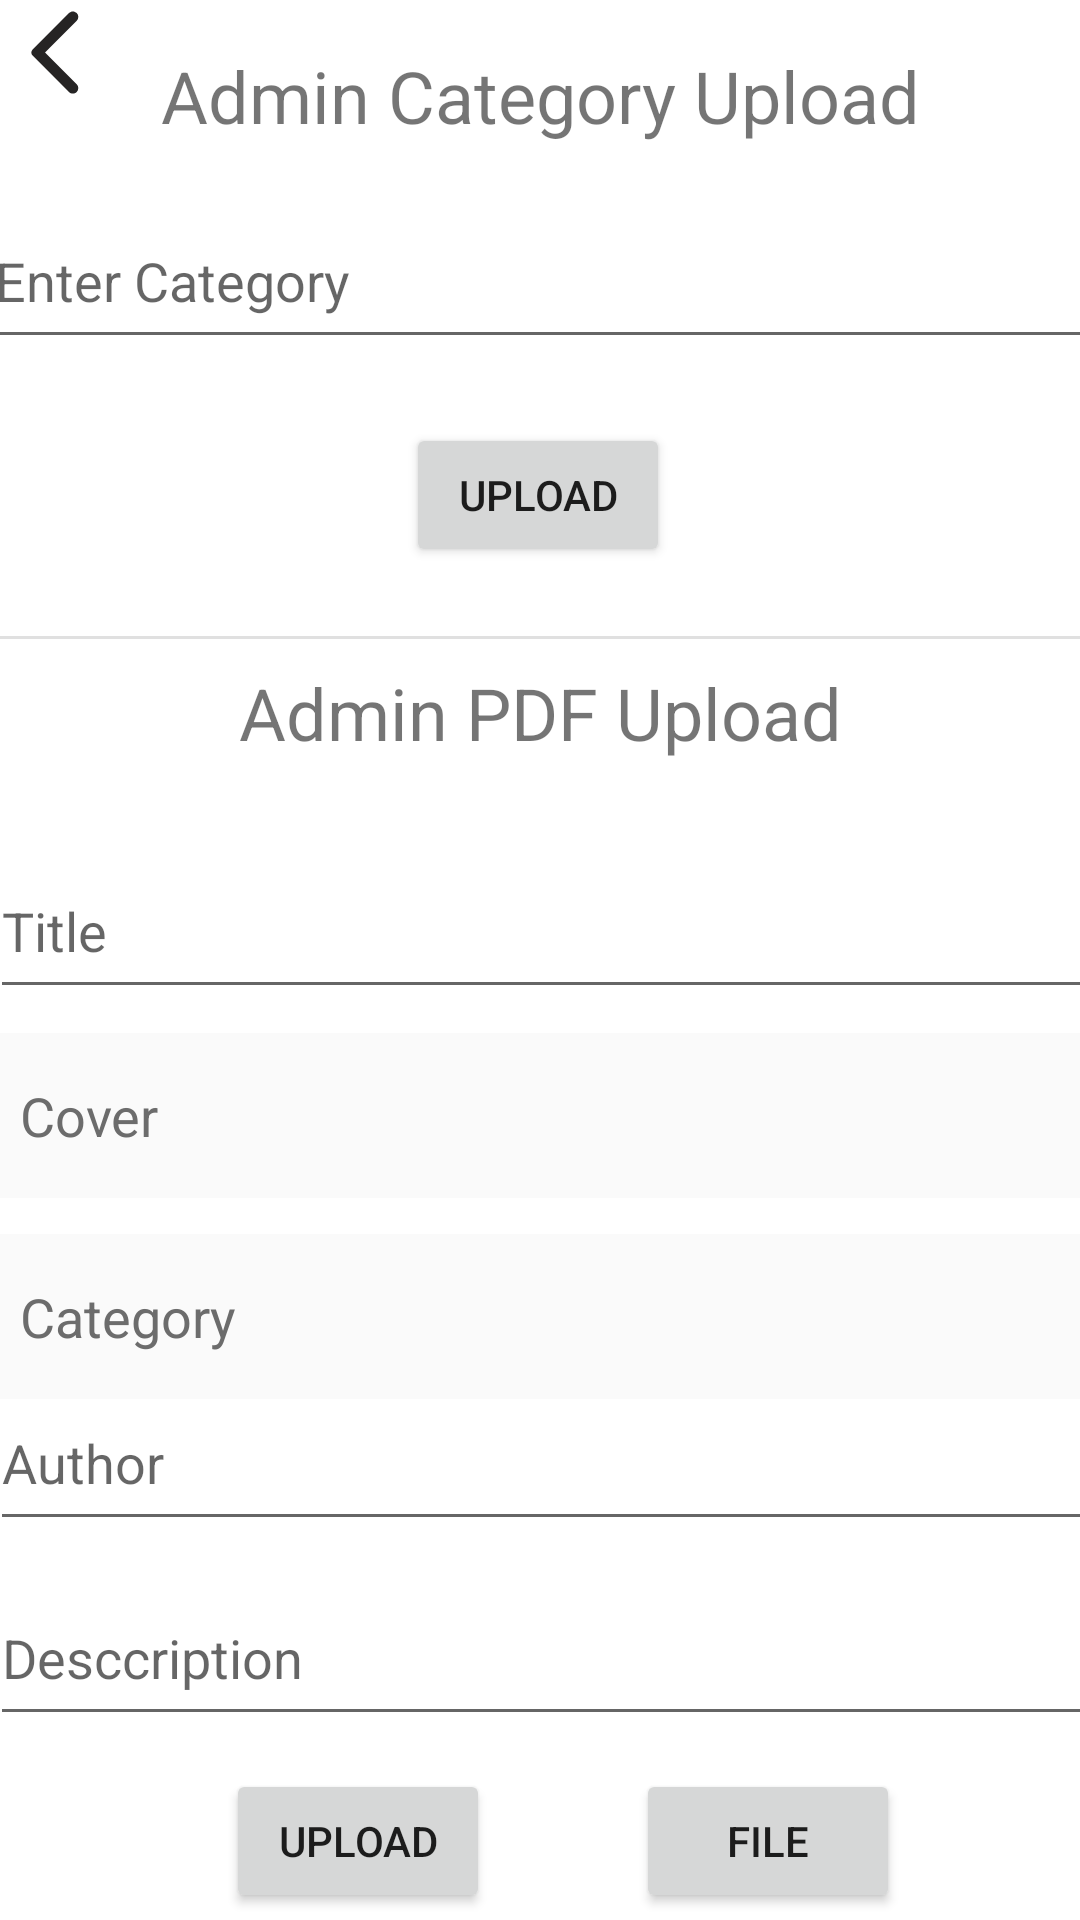

Icon bounding boxes for this 1080px x 1920px phone screenshot, format (x1, y1, x2, y2):
arrow back: (31, 11, 79, 94)
